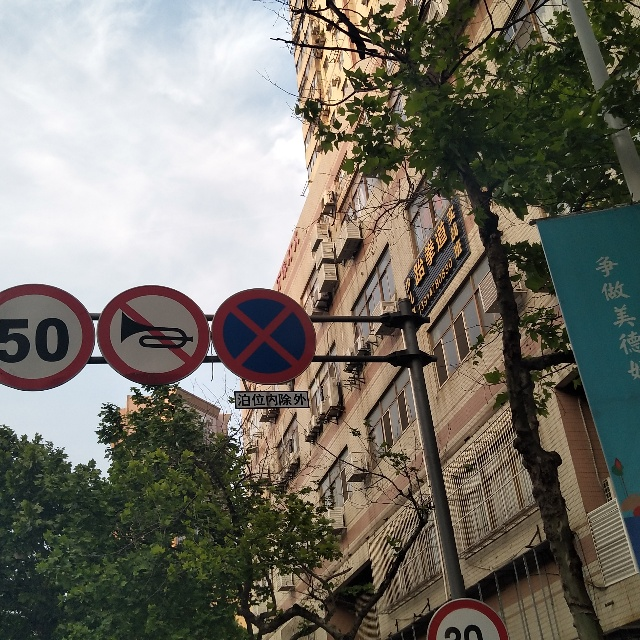nohonk: (104, 282, 205, 375)
stop: (215, 288, 313, 381)
